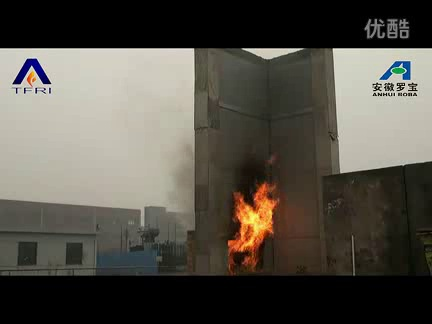fire: (225, 179, 282, 271)
